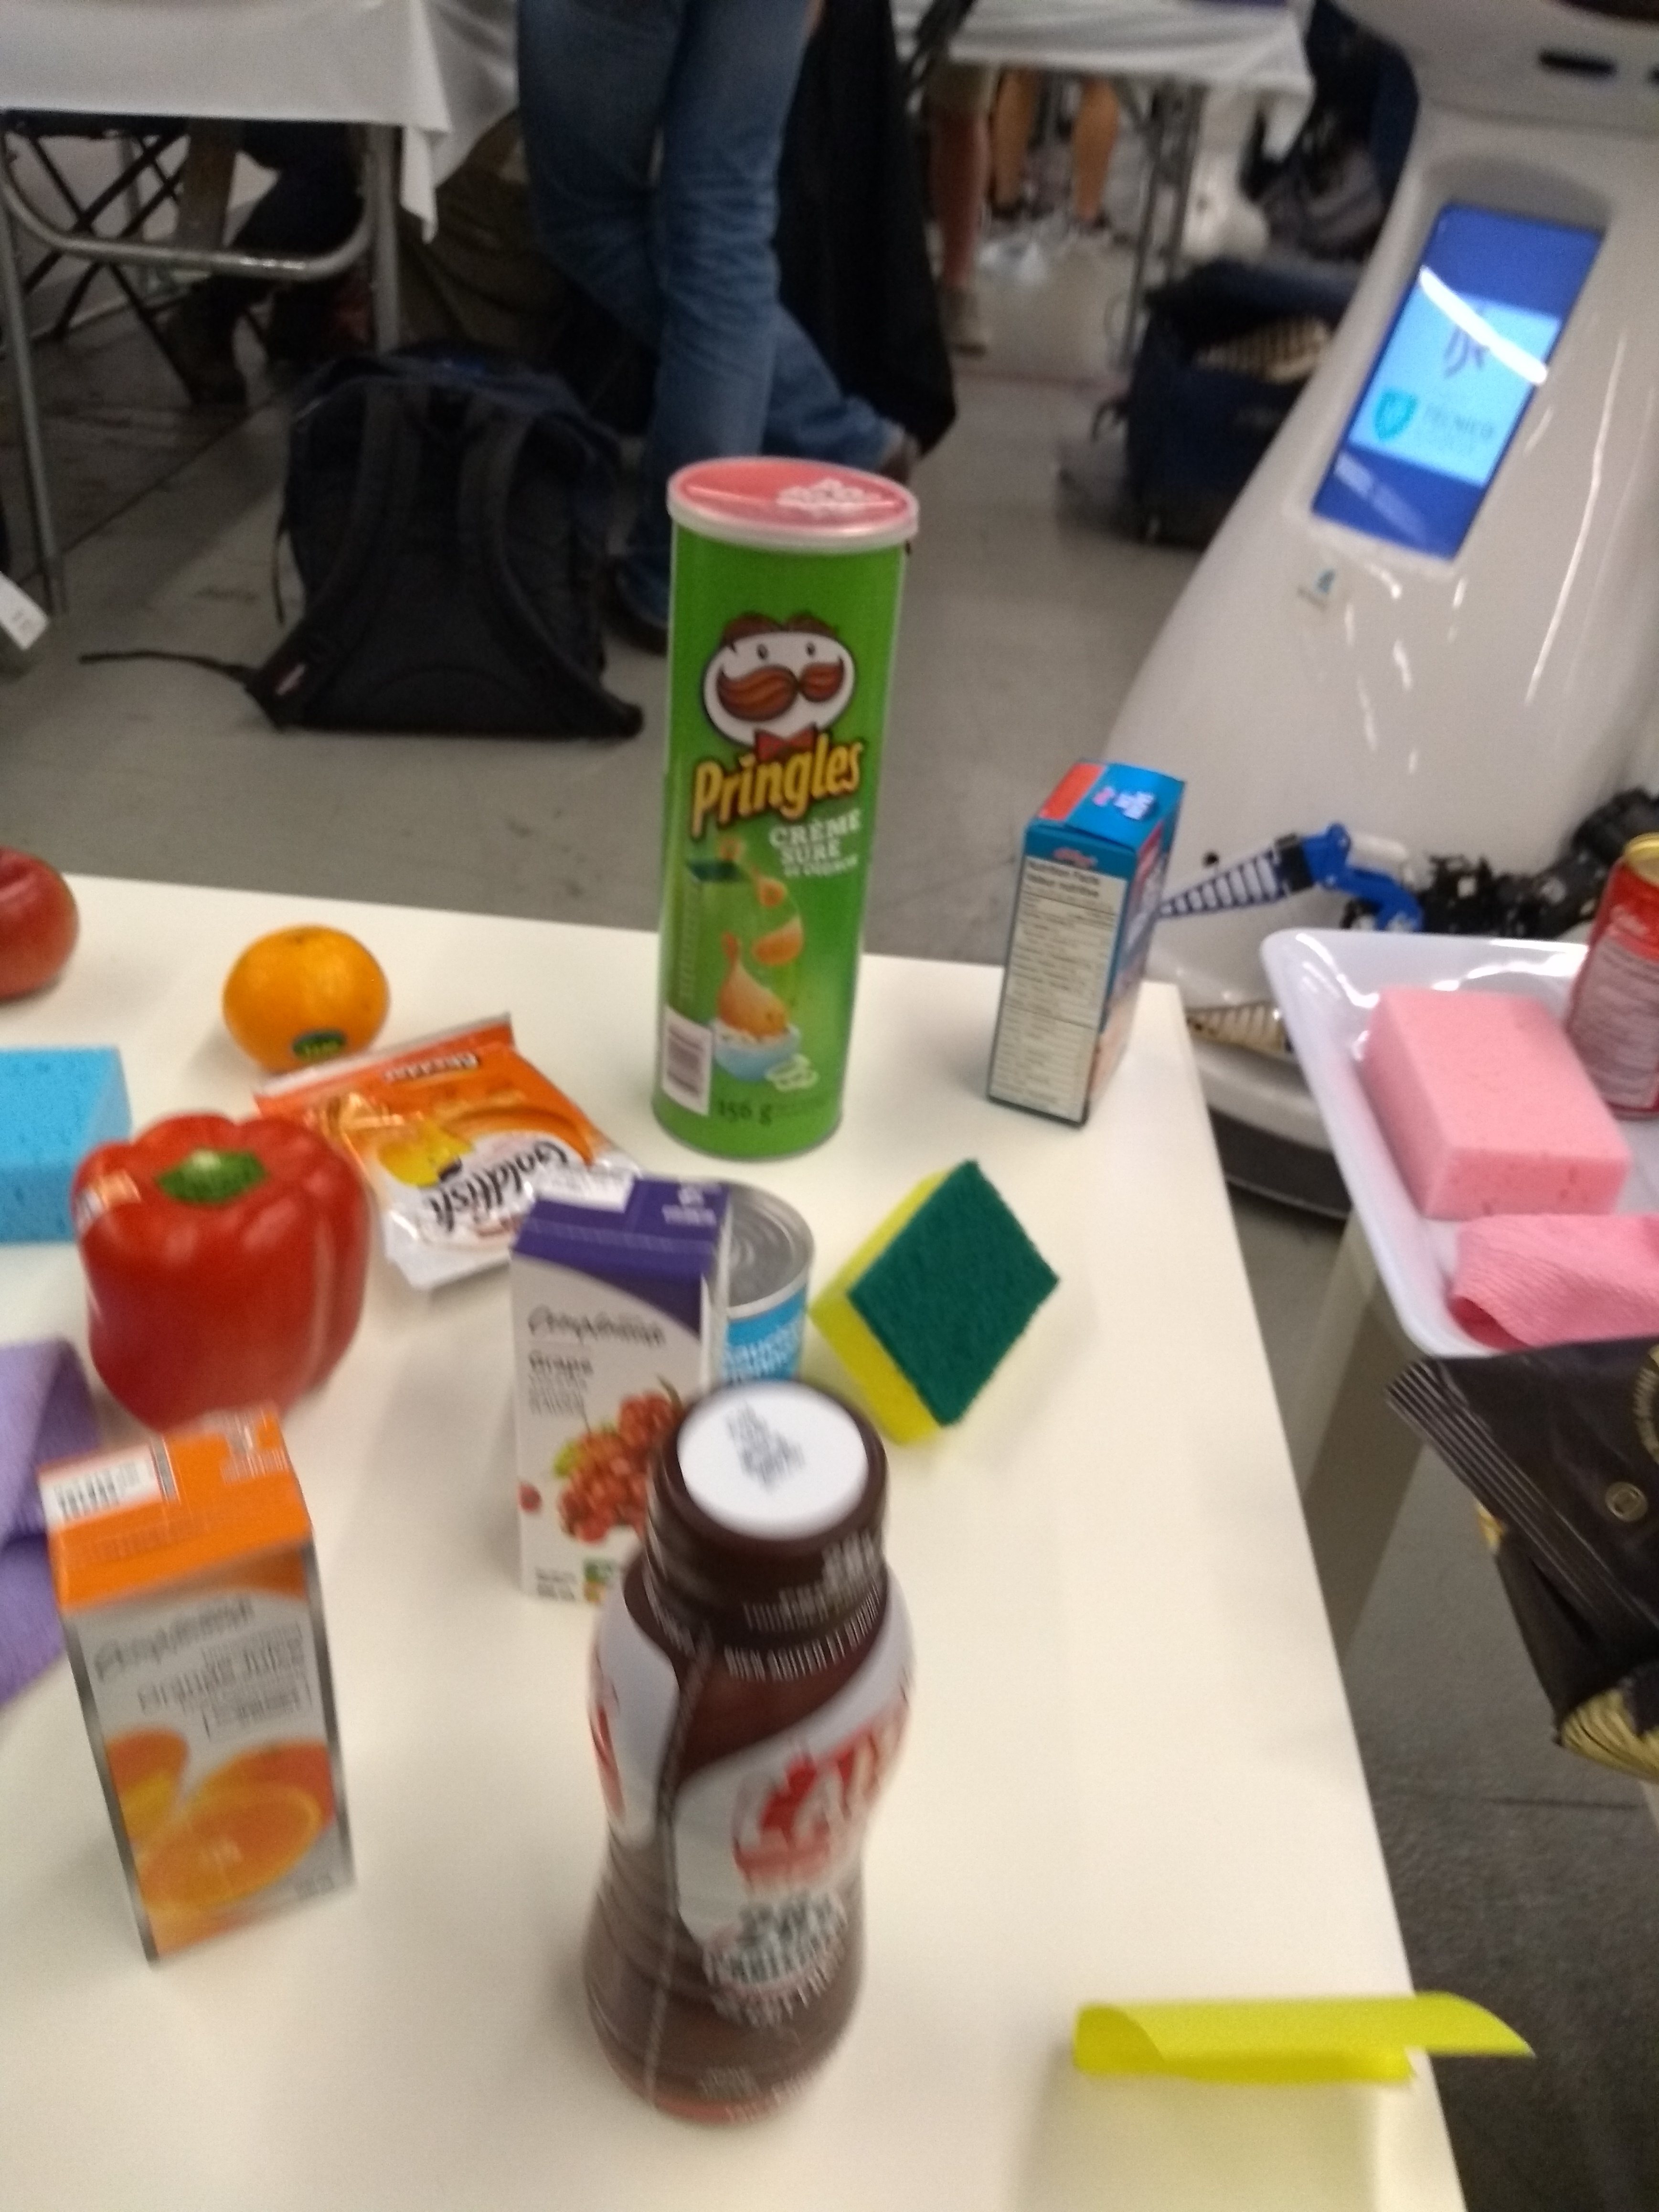apple: (0, 838, 87, 1012)
cereal: (974, 754, 1201, 1125)
chocolate_drink: (561, 1369, 920, 2148)
crackers: (296, 1052, 589, 1247)
grape_juice: (502, 1153, 730, 1606)
orange: (216, 925, 396, 1078)
orange_juice: (24, 1407, 369, 1965)
paprika: (66, 1099, 376, 1426)
pringles: (641, 444, 924, 1172)
sausages: (718, 1177, 819, 1392)
scrubby: (816, 1162, 1075, 1442)
sponge_opl: (0, 1033, 138, 1264)
